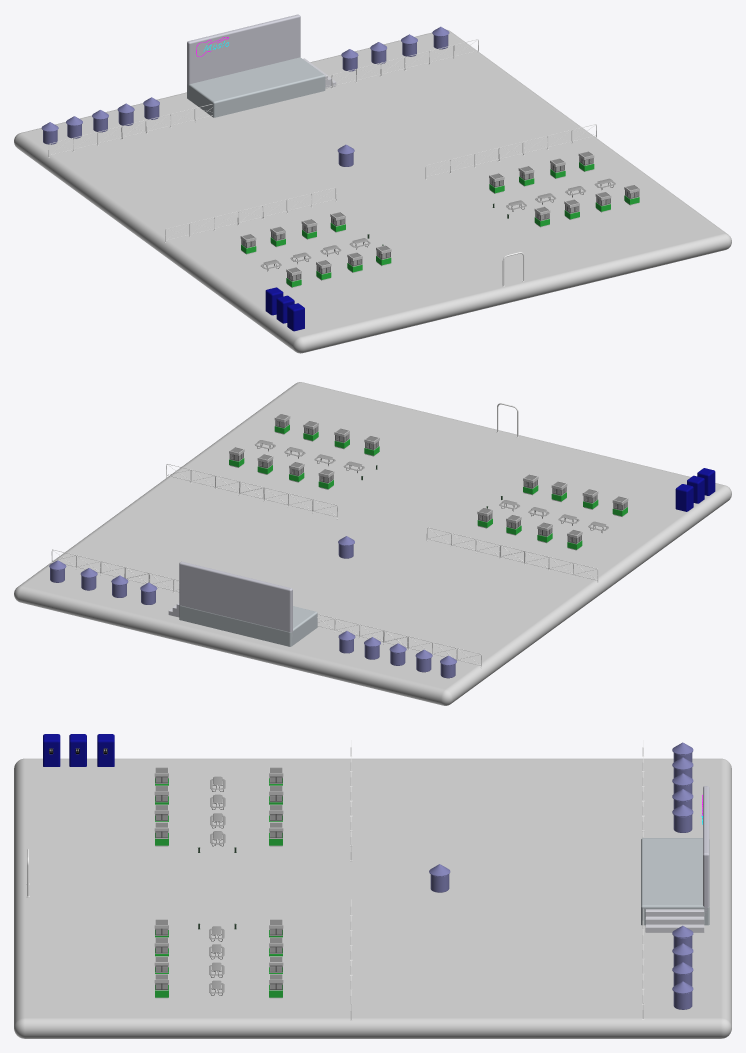
Rendered from venue.glb.
3 views of the same model, one above another, from view 1: azimuth 30°, elevation 25°; view 2: azimuth 150°, elevation 25°; view 3: azimuth 270°, elevation 25° (orthographic). The views are drawn at different scales.
Parts seen in each view (by area): view 1: Floor, Stage Screen, Stage Floor, Merged Objects 2, Merged Objects 1, Merged Objects 3, Merged Objects 4; view 2: Floor, Stage Screen, Stage Floor, Merged Objects 2, Merged Objects 1, Merged Objects 3, Merged Objects 4; view 3: Floor, Stage Floor, Box (×3), Three Steps Stairs, Stage Screen, Merged Objects 13, Merged Objects 17, Merged Objects 18.
Boxes of the visible parts, box(x1,y1,x2,y2) form: Floor: box(14, 29, 731, 353); Stage Screen: box(187, 14, 300, 89); Stage Floor: box(187, 57, 325, 117); Merged Objects 2: box(164, 187, 336, 242); Merged Objects 1: box(425, 124, 597, 179); Merged Objects 3: box(48, 104, 212, 157); Merged Objects 4: box(325, 39, 479, 88); Floor: box(14, 382, 731, 705); Stage Screen: box(179, 561, 292, 636); Stage Floor: box(179, 605, 317, 646); Merged Objects 2: box(426, 527, 598, 582); Merged Objects 1: box(166, 464, 338, 519); Merged Objects 3: box(317, 614, 482, 667); Merged Objects 4: box(51, 549, 178, 592); Floor: box(14, 758, 731, 1038); Stage Floor: box(641, 838, 709, 925); Box (×3): box(43, 734, 114, 766); Three Steps Stairs: box(645, 909, 704, 932); Stage Screen: box(703, 786, 709, 914); Merged Objects 13: box(429, 864, 450, 892); Merged Objects 17: box(672, 981, 693, 1009); Merged Objects 18: box(672, 804, 693, 832).
Size of the model in its own units: 0.3091 by 0.0492 by 0.3504.
Materials: 157 (3 with a texture image).
